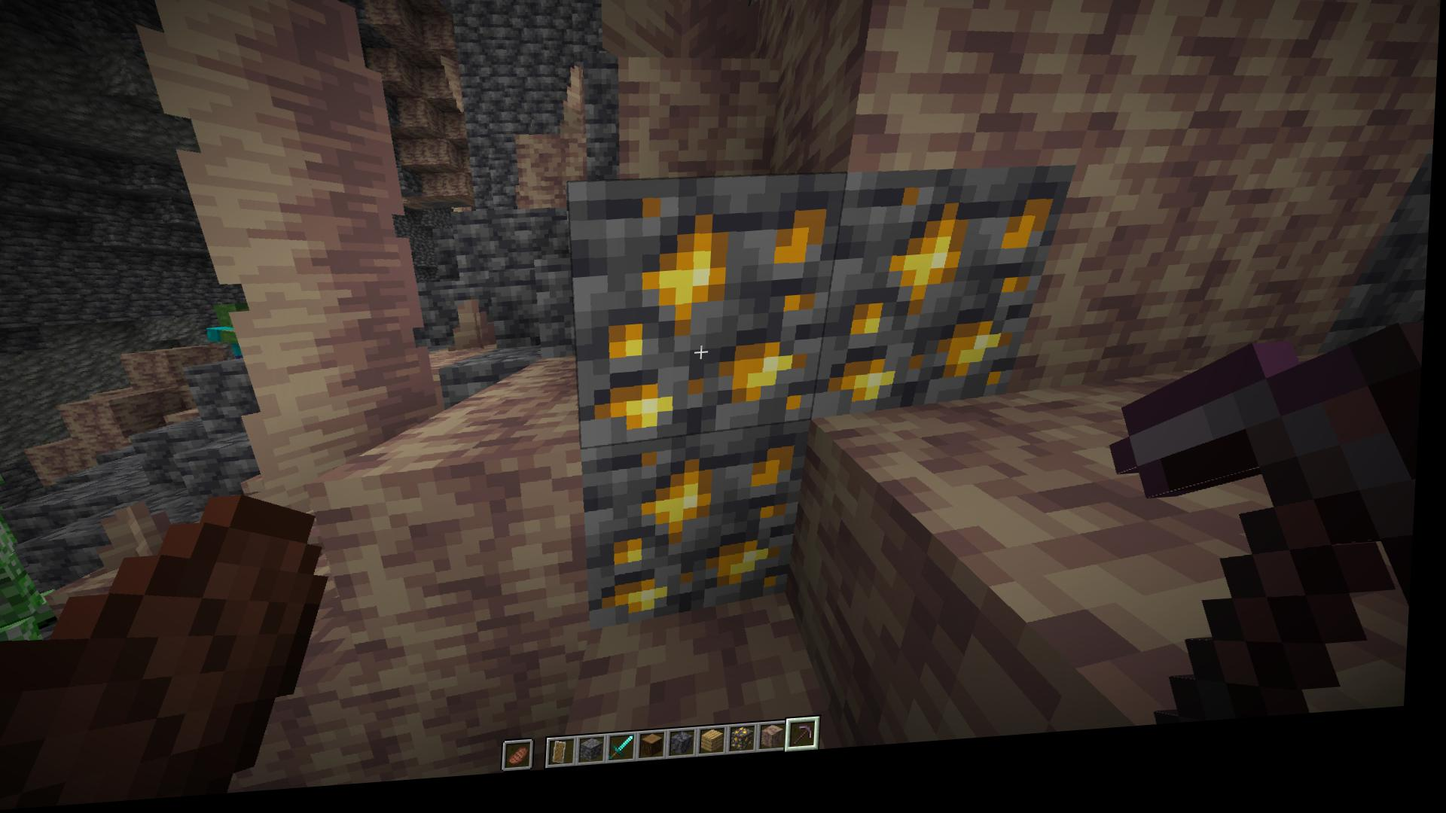gold ore: (576, 177, 830, 447), (828, 171, 1055, 422), (593, 448, 805, 619)
